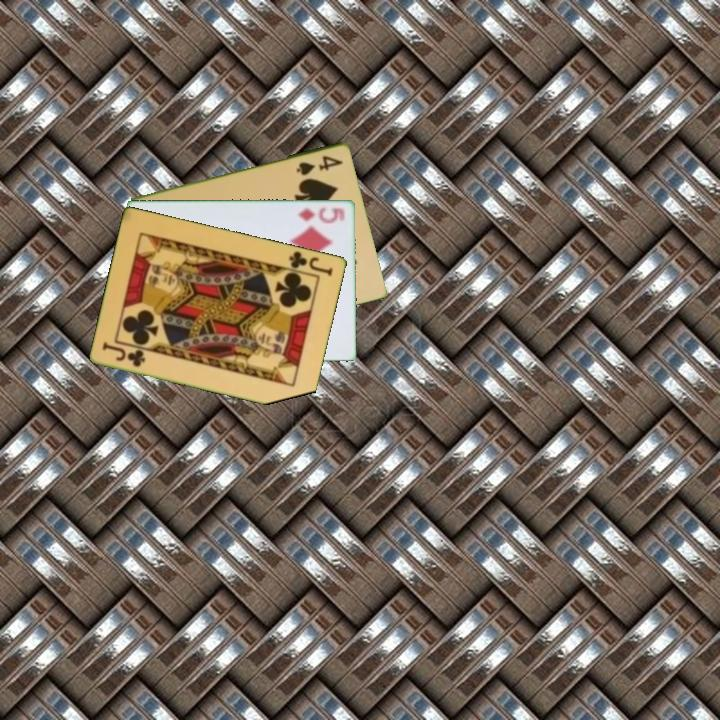4s: (293, 152, 346, 178)
5d: (294, 203, 348, 225)
Jc: (281, 247, 336, 278), (99, 339, 149, 370)
